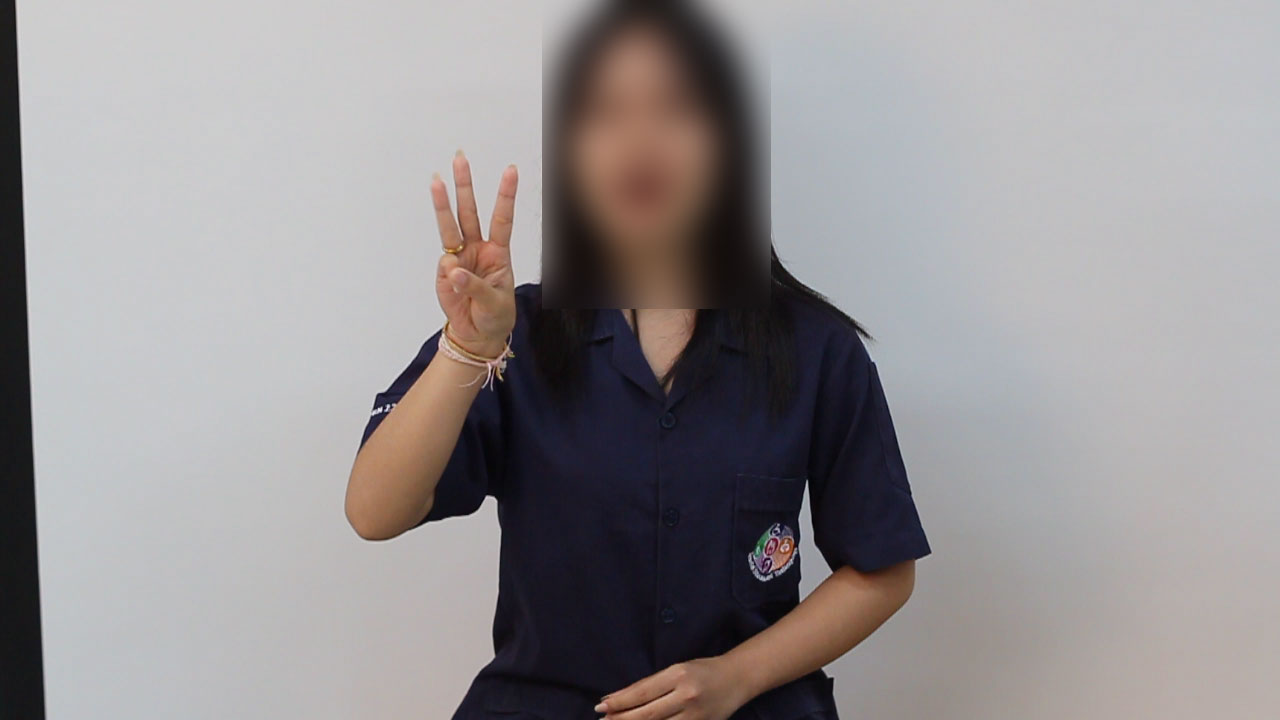wor: (423, 140, 524, 361)
